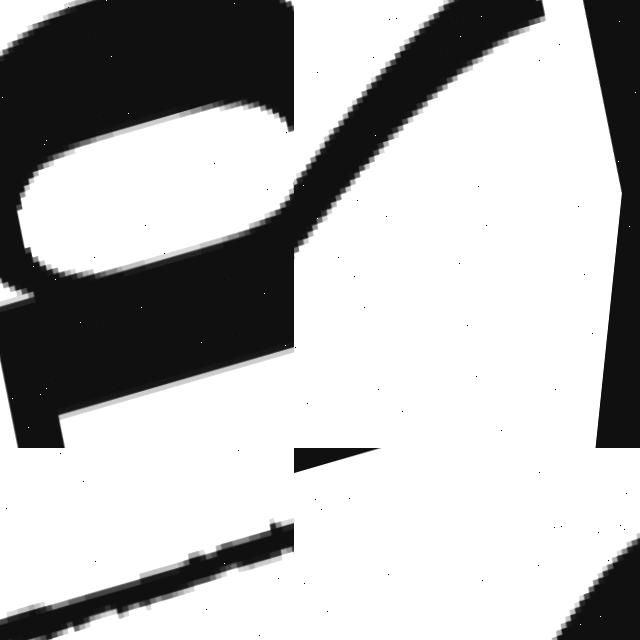2: (294, 486, 640, 640)
7: (294, 0, 640, 448)
G: (0, 0, 294, 448)
L: (0, 448, 294, 640)
